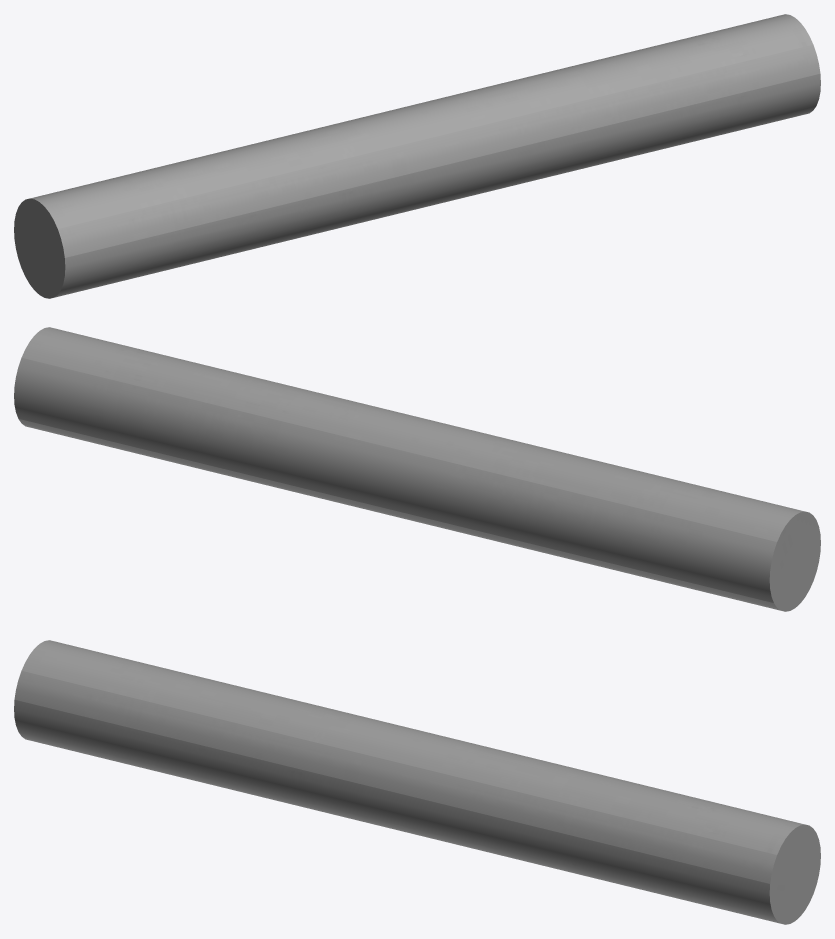
File: frame__fan_bridge.glb
The picture shows the model from 3 angles, top to bottom: view 1: azimuth 30°, elevation 25°; view 2: azimuth 150°, elevation 25°; view 3: azimuth 330°, elevation 25°; orthographic projection.
Parts seen in each view (by area): view 1: geometry_0; view 2: geometry_0; view 3: geometry_0.
Part boxes in pixels (x1,y1,x2,y2): geometry_0: (14,14,820,298); geometry_0: (14,327,820,611); geometry_0: (14,640,820,924).
Size of the model in its own units: 0.34 by 0.04 by 0.04.
Materials: 1 (1 with a texture image).
